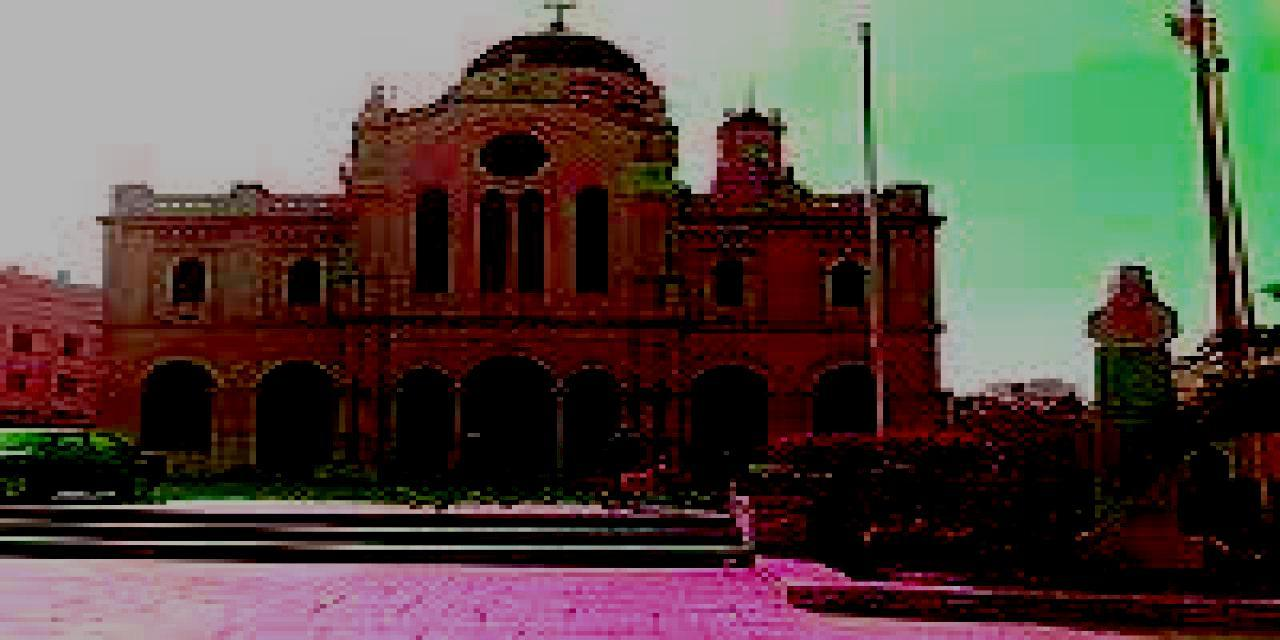Agios Minas: (101, 1, 948, 490)
